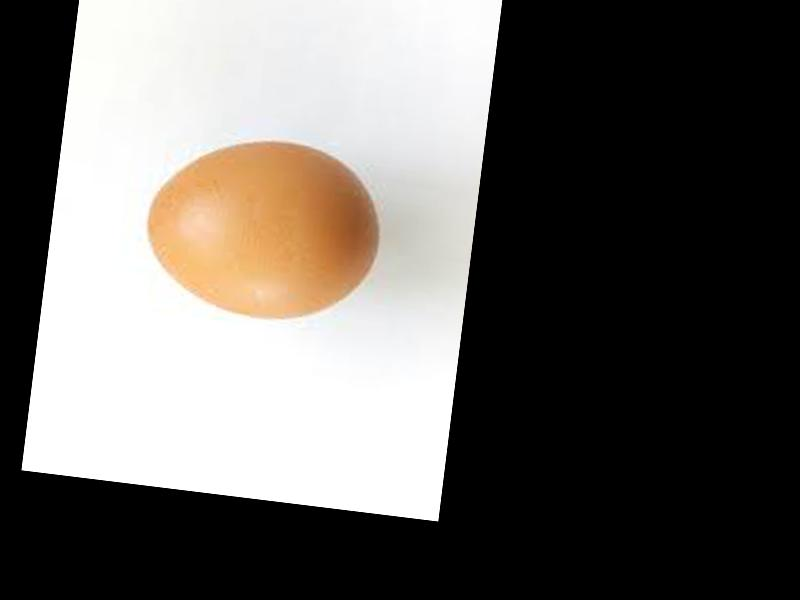Eggs: (134, 124, 392, 329)
